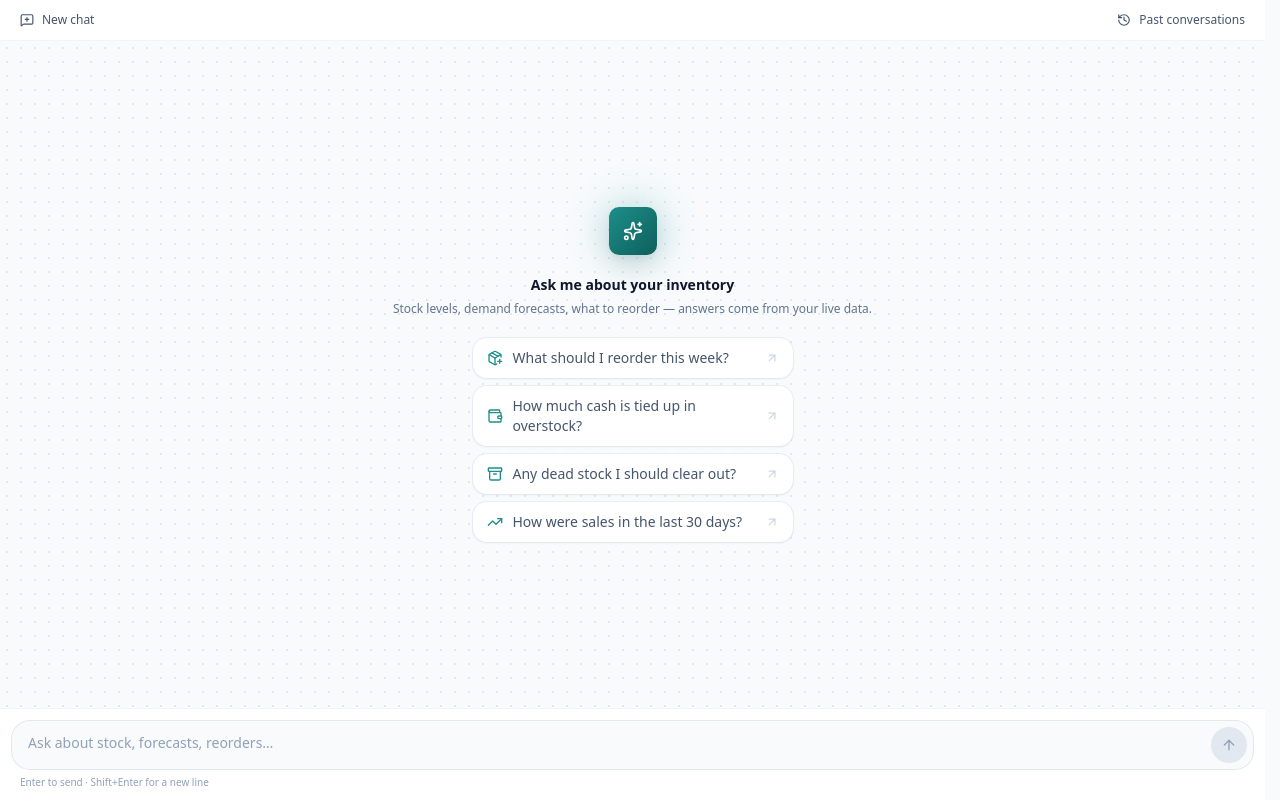
it: ChatPanel › clicking a suggested prompt sends it
The width and height of the screenshot is (1280, 800).
Click the button "Any dead stock I should clear out?". click: (632, 474)
box: [472,454,792,494]
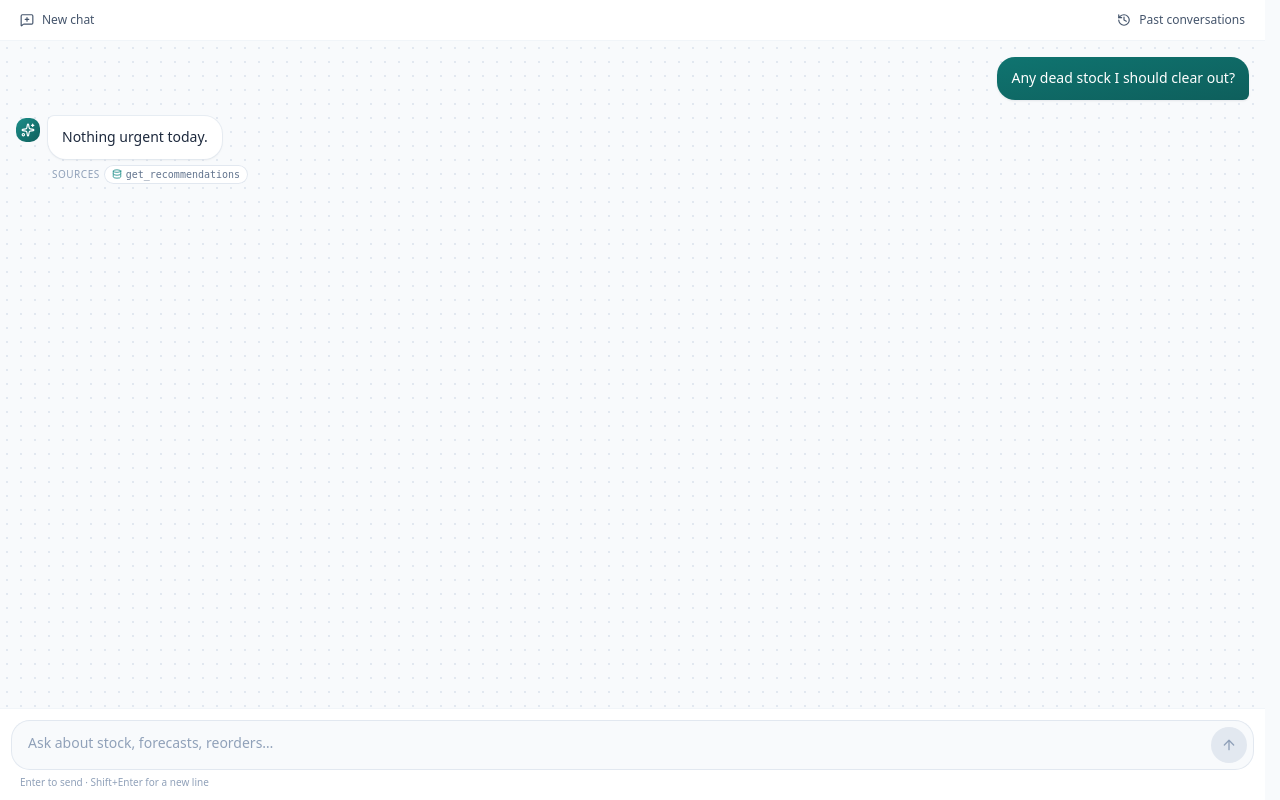
expect the text "Nothing urgent today." is shown: met, box [48,116,222,159]
